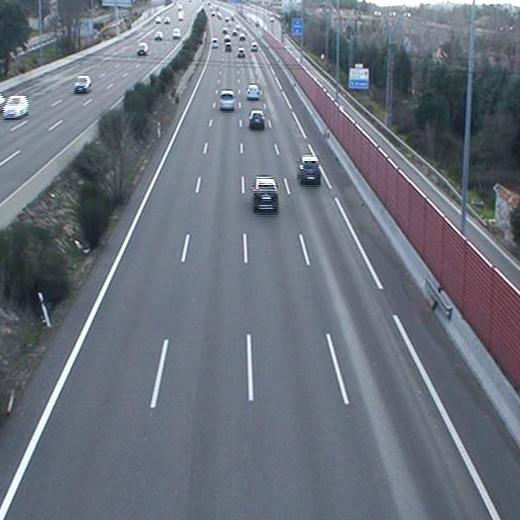car: (252, 176, 281, 214), (296, 156, 321, 186), (247, 109, 268, 132), (218, 90, 237, 111), (245, 85, 260, 101)
